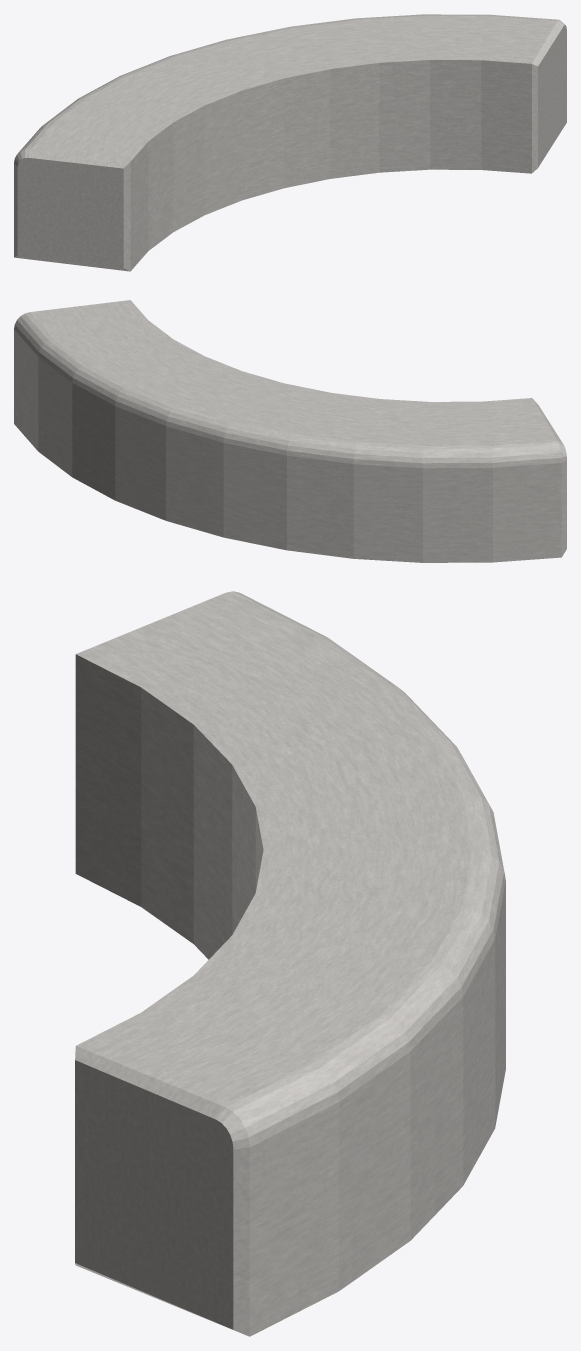
Rendered from Stone1_Round_Modular.fbx.
3 views of the same model, one above another, from view 1: azimuth 30°, elevation 25°; view 2: azimuth 150°, elevation 25°; view 3: azimuth 270°, elevation 25° (orthographic). The views are drawn at different scales.
Visible parts, largest first — view 1: Stone_1_Round; view 2: Stone_1_Round; view 3: Stone_1_Round.
Part boxes in pixels (box(x1,y1,x2,y2)): Stone_1_Round: box(14, 14, 566, 271); Stone_1_Round: box(14, 300, 566, 562); Stone_1_Round: box(75, 591, 505, 1336).
Bounding box in the file's own units: 105 × 35.55 × 20.
Materials: 1 (1 with a texture image).
